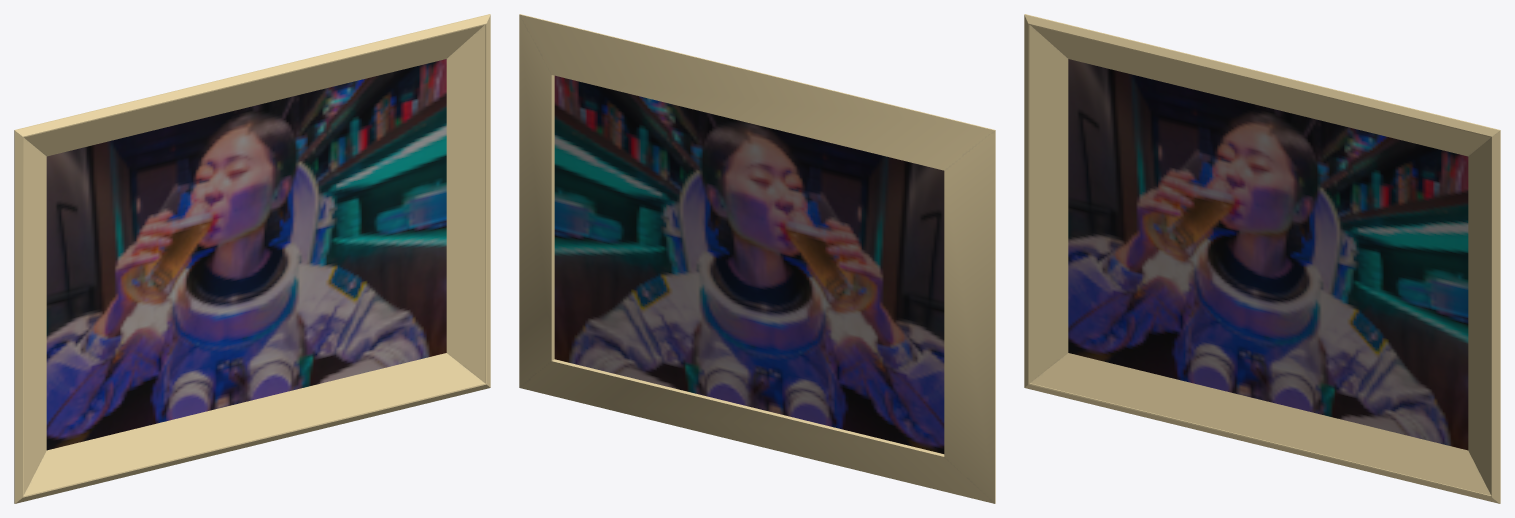
File: Prop_PictureTable_8.fbx
The picture shows the model from 3 angles, left to right: view 1: azimuth 30°, elevation 25°; view 2: azimuth 150°, elevation 25°; view 3: azimuth 330°, elevation 25°; orthographic projection.
Visible parts, largest first — view 1: Prop_PictureTable_8; view 2: Prop_PictureTable_8; view 3: Prop_PictureTable_8.
Boxes of the visible parts, box(x1,y1,x2,y2) form: Prop_PictureTable_8: box(14, 14, 490, 503); Prop_PictureTable_8: box(519, 14, 995, 503); Prop_PictureTable_8: box(1024, 14, 1500, 503).
Size of the model in its own units: 31.17 by 23.38 by 1.33.
